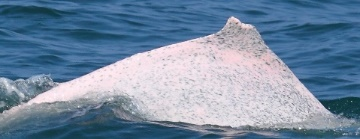fin: (5, 11, 341, 130)
